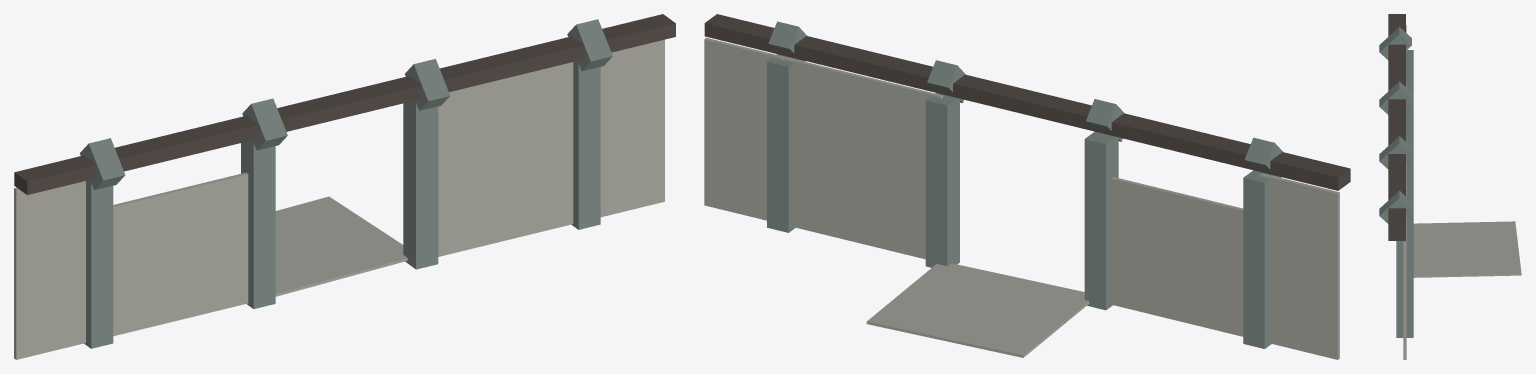
The model's file is SM_VallaBase_v2_LOD1.fbx.
The picture shows the model from 3 angles, left to right: view 1: azimuth 30°, elevation 25°; view 2: azimuth 150°, elevation 25°; view 3: azimuth 270°, elevation 25°; orthographic projection. The views are drawn at different scales.
Visible parts, largest first — view 1: SM_valla_base_v2_LOD1; view 2: SM_valla_base_v2_LOD1; view 3: SM_valla_base_v2_LOD1.
Boxes of the visible parts, x1,y1,x2,y2 form: SM_valla_base_v2_LOD1: [14, 14, 675, 359]; SM_valla_base_v2_LOD1: [704, 14, 1350, 359]; SM_valla_base_v2_LOD1: [1379, 14, 1521, 359].
Bounding box in the file's own units: 9.98 × 2.99 × 2.75.
